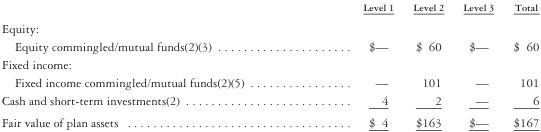table: (0, 0, 538, 129)
table column: (0, 0, 303, 129), (303, 0, 402, 129), (402, 0, 452, 129), (452, 0, 502, 129), (502, 0, 538, 129)
table column header: (0, 0, 538, 16)
table projected row header: (0, 16, 538, 36), (0, 54, 538, 72)
table row: (0, 90, 538, 111), (0, 16, 538, 36), (0, 36, 538, 54), (0, 54, 538, 72), (0, 72, 538, 90), (0, 111, 538, 129), (0, 0, 538, 16)
